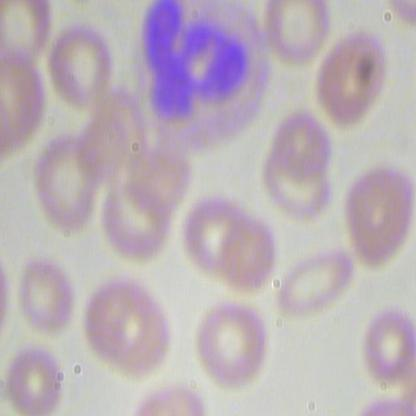RBC: (312, 23, 391, 133), (337, 164, 415, 273), (94, 164, 177, 264), (269, 238, 357, 327), (190, 299, 270, 389), (47, 16, 113, 113), (79, 276, 154, 358), (213, 217, 279, 297), (17, 254, 81, 335), (360, 296, 415, 384), (261, 1, 332, 68), (2, 339, 64, 415)
